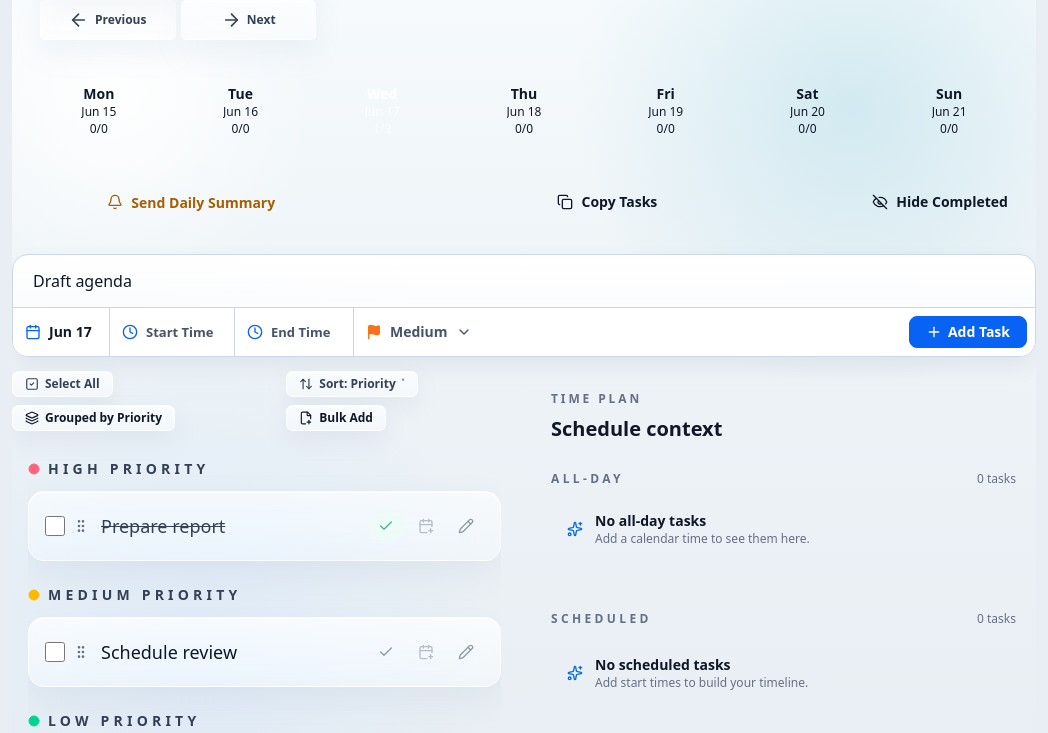
it: AdminView dashboard polish integration › selects a sort option and closes the dropdown
The width and height of the screenshot is (1048, 733).
(page scrolled)
Click the button "Sort: Priority ˅".
click(352, 384)  # box [286, 371, 418, 397]
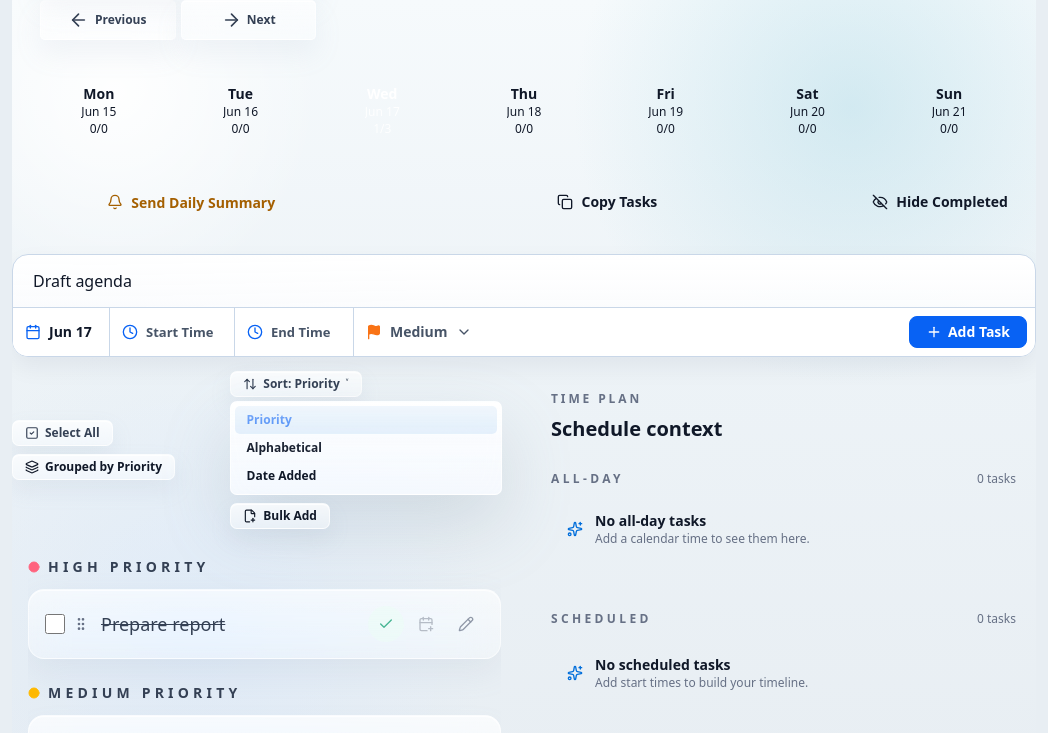
Click the menu item "Alphabetical".
click(284, 448)  # box [235, 434, 497, 462]
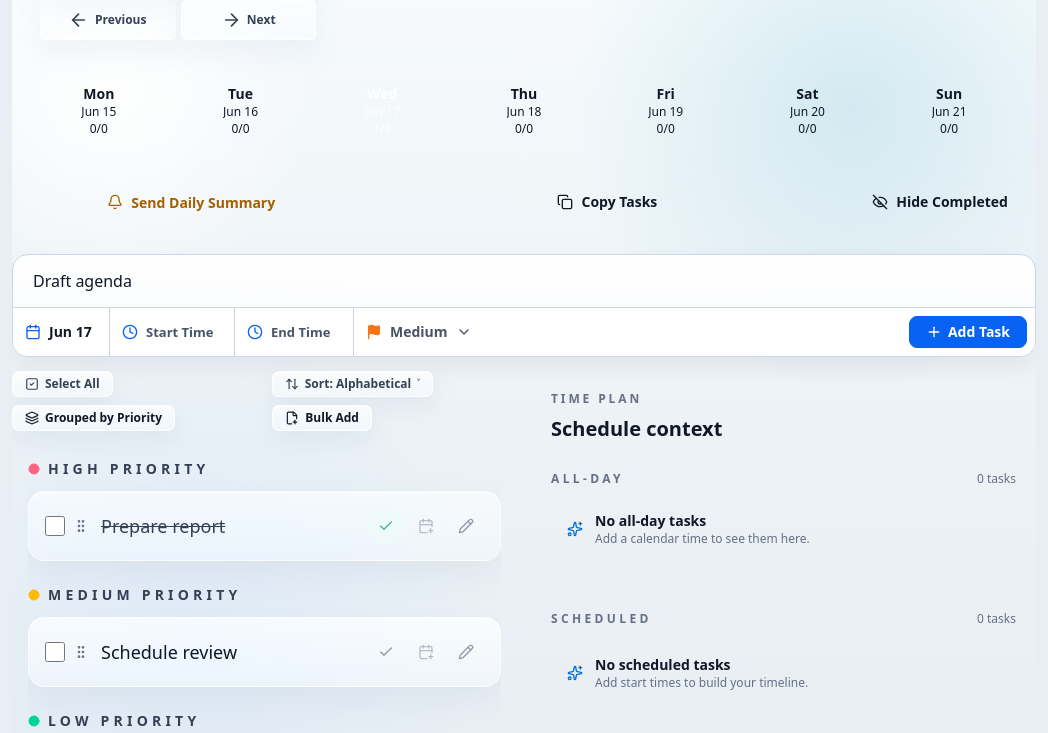
expect the menu item "Date Added" is gone: met
expect the button "Sort: Alphabetical ˅" is shown: met, box [272, 371, 433, 397]
